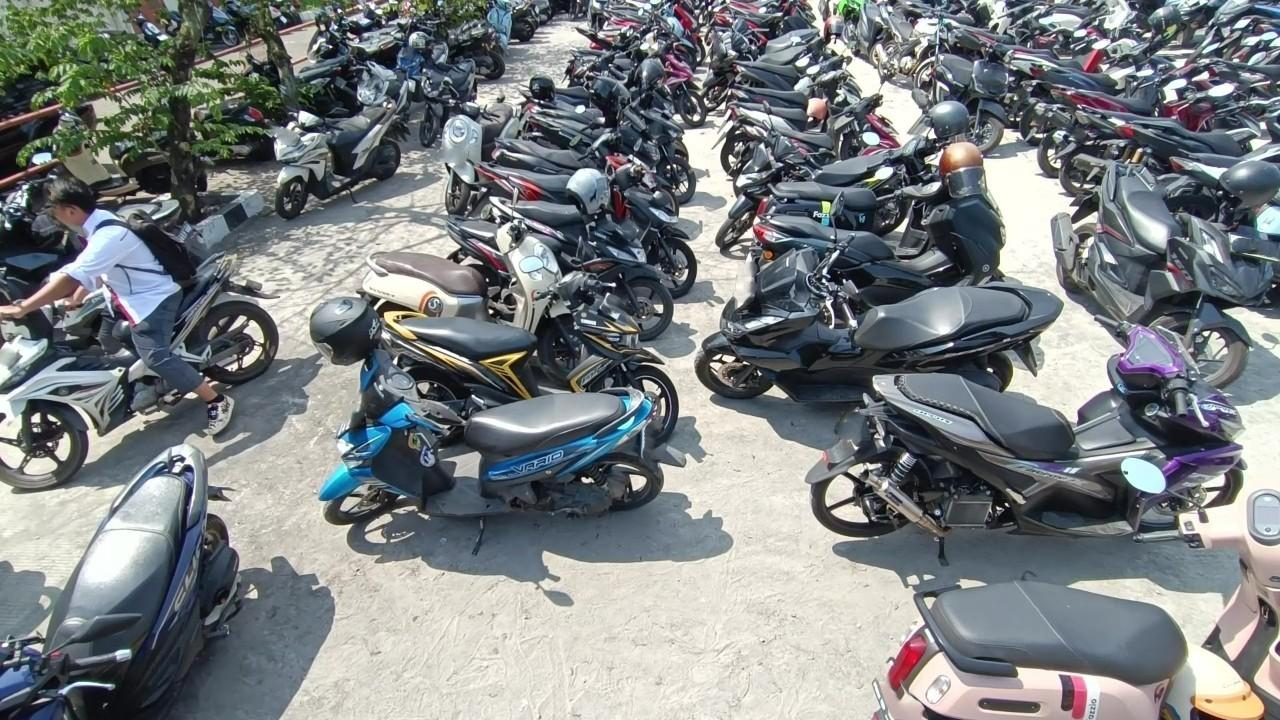motorcycle: (877, 457, 1280, 720), (805, 314, 1247, 543), (0, 186, 278, 491), (311, 299, 663, 534), (698, 189, 1061, 400), (2, 447, 249, 714), (378, 241, 679, 453), (1049, 154, 1280, 393), (753, 146, 1011, 303), (439, 172, 670, 340), (0, 150, 204, 314), (358, 190, 571, 334), (492, 152, 698, 299), (715, 101, 911, 252), (756, 100, 972, 237), (484, 78, 675, 204), (527, 62, 697, 202), (272, 76, 407, 219), (464, 130, 669, 209), (934, 36, 1015, 155), (442, 78, 510, 213), (410, 31, 481, 147), (354, 45, 415, 131), (476, 0, 520, 61)
